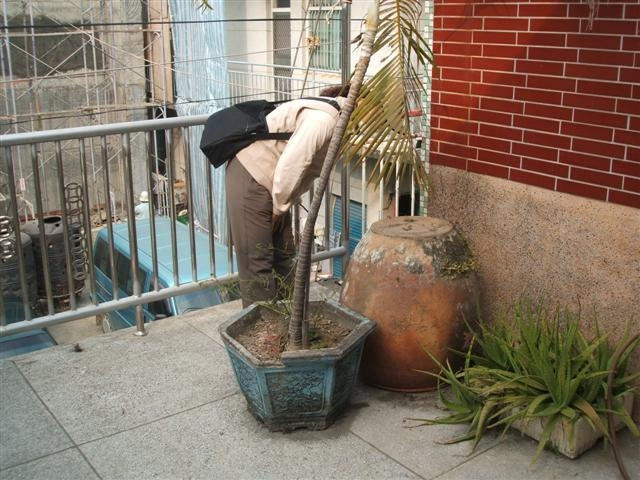bucket: (338, 213, 481, 396)
